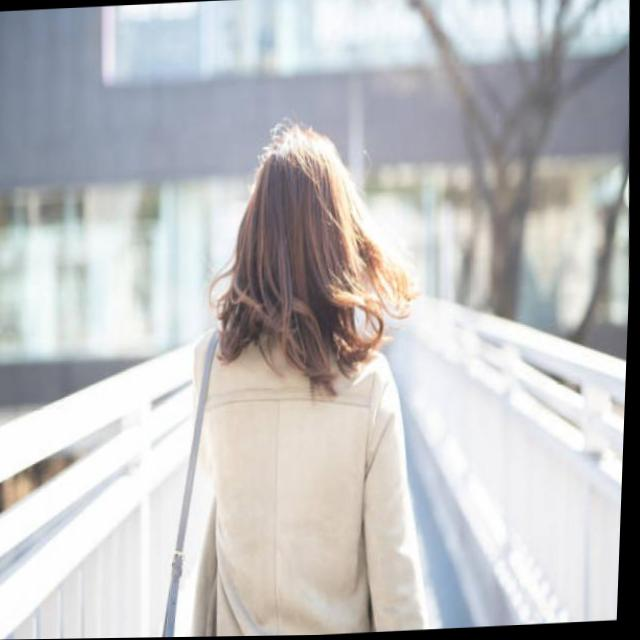no helmet: (209, 95, 392, 391)
